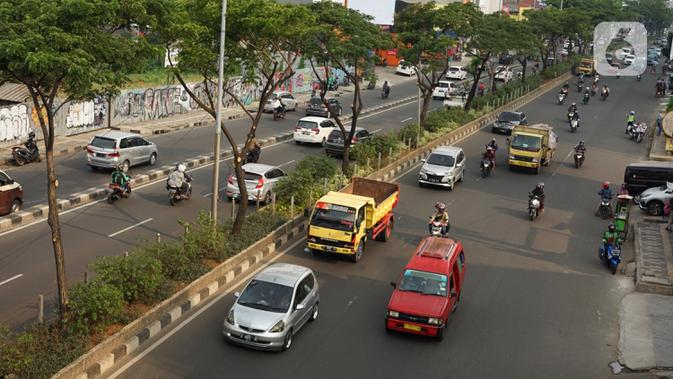car: (223, 260, 318, 355), (391, 238, 470, 343), (307, 174, 396, 266), (227, 161, 289, 202), (88, 131, 158, 167), (507, 123, 553, 171), (421, 145, 467, 190), (327, 125, 372, 160), (295, 115, 335, 147), (259, 90, 297, 114), (306, 95, 342, 119), (493, 111, 526, 136), (396, 59, 419, 77), (432, 80, 454, 97), (577, 59, 596, 78), (446, 65, 465, 82)
motorbike: (164, 163, 195, 207), (107, 164, 132, 206), (600, 223, 620, 275), (429, 202, 452, 238), (528, 182, 546, 221), (597, 183, 614, 221), (480, 148, 494, 179), (574, 143, 587, 169), (485, 138, 498, 162), (273, 97, 286, 121), (555, 86, 566, 107), (381, 80, 392, 100), (568, 103, 577, 126), (571, 111, 579, 132), (577, 76, 583, 94), (602, 84, 608, 100), (584, 87, 589, 105)
